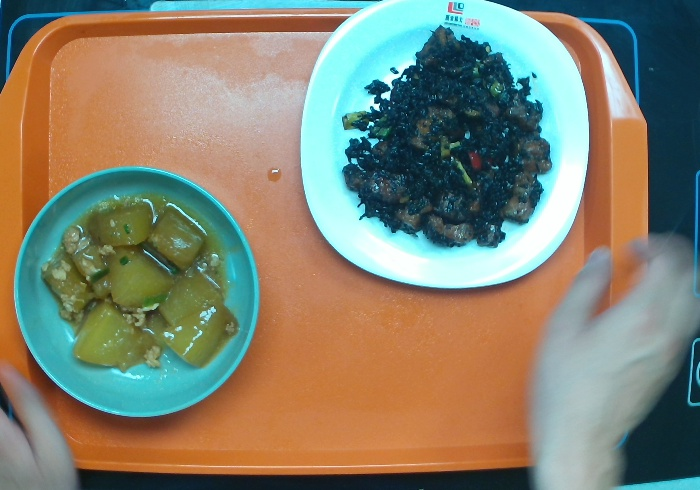ZNLD-Qing_Hua_Yuan_Wan: (12, 164, 262, 419)
ZNLD-Yuan_Jiao_Pan: (298, 1, 591, 290)
